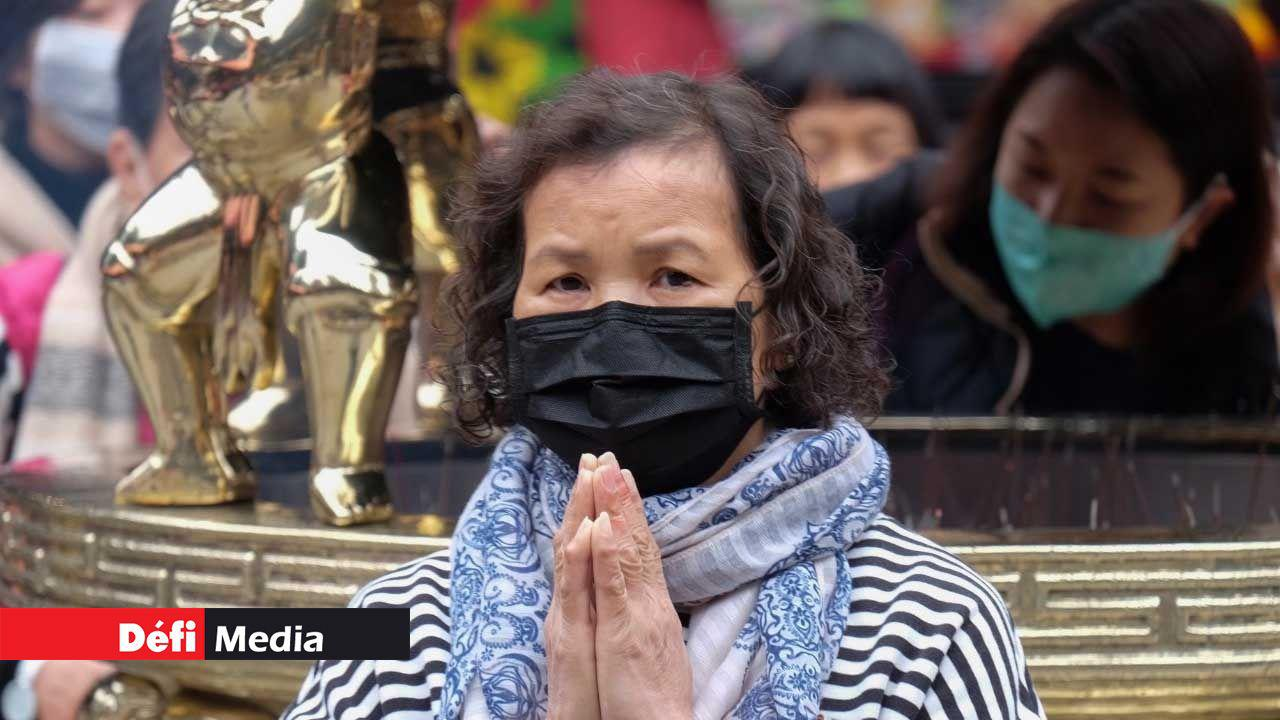mask: (495, 228, 769, 495), (986, 115, 1179, 330)
